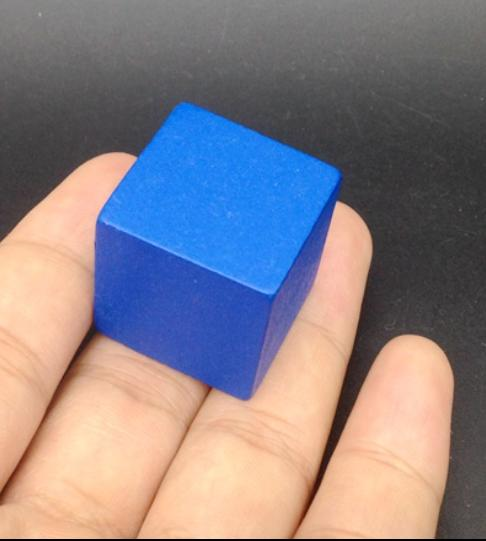bluecube: (92, 103, 342, 402)
